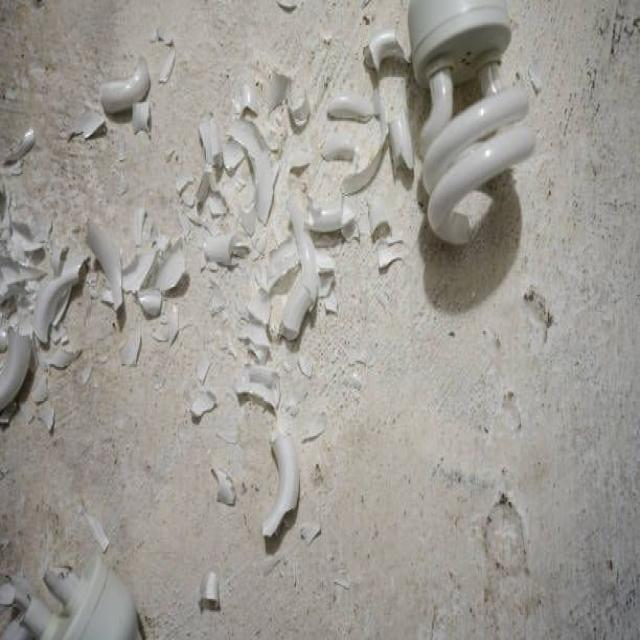electronic: (365, 0, 535, 246), (0, 546, 142, 638), (260, 428, 299, 538), (99, 55, 150, 114), (2, 127, 35, 166), (198, 568, 220, 612)
